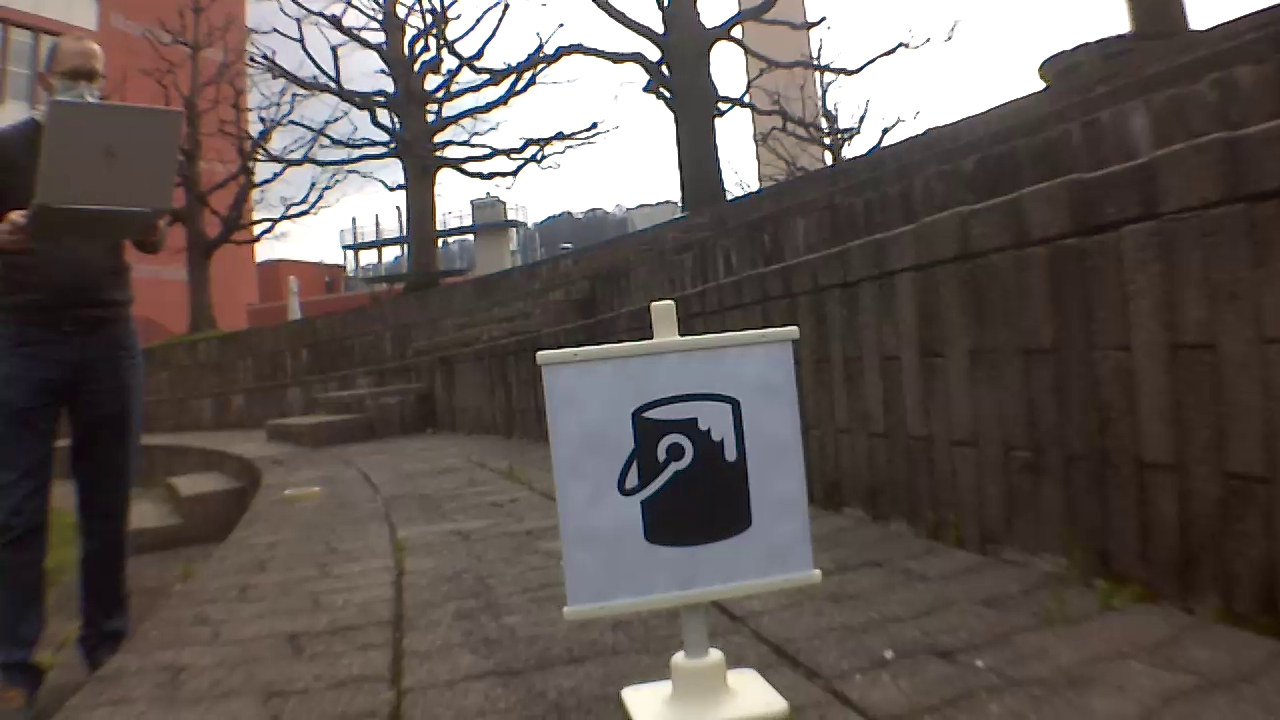bucket: (615, 391, 751, 558)
